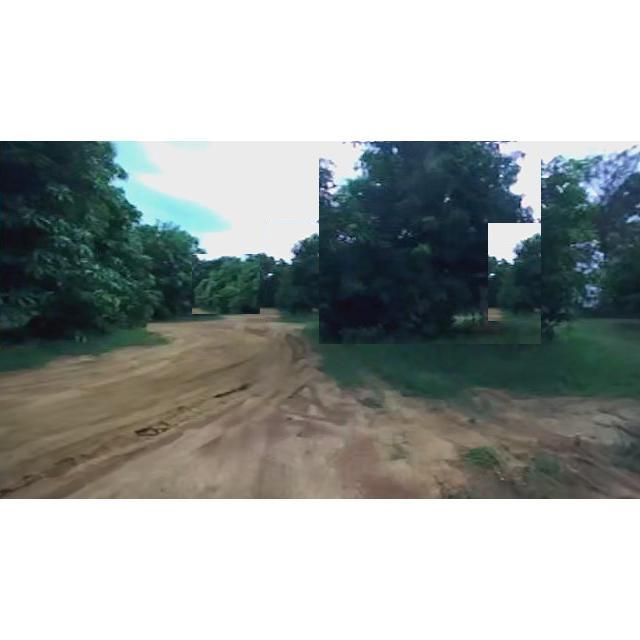direk: (319, 142, 541, 344), (0, 144, 156, 348), (518, 146, 608, 334), (124, 209, 220, 321), (266, 223, 372, 321), (192, 254, 260, 314)
